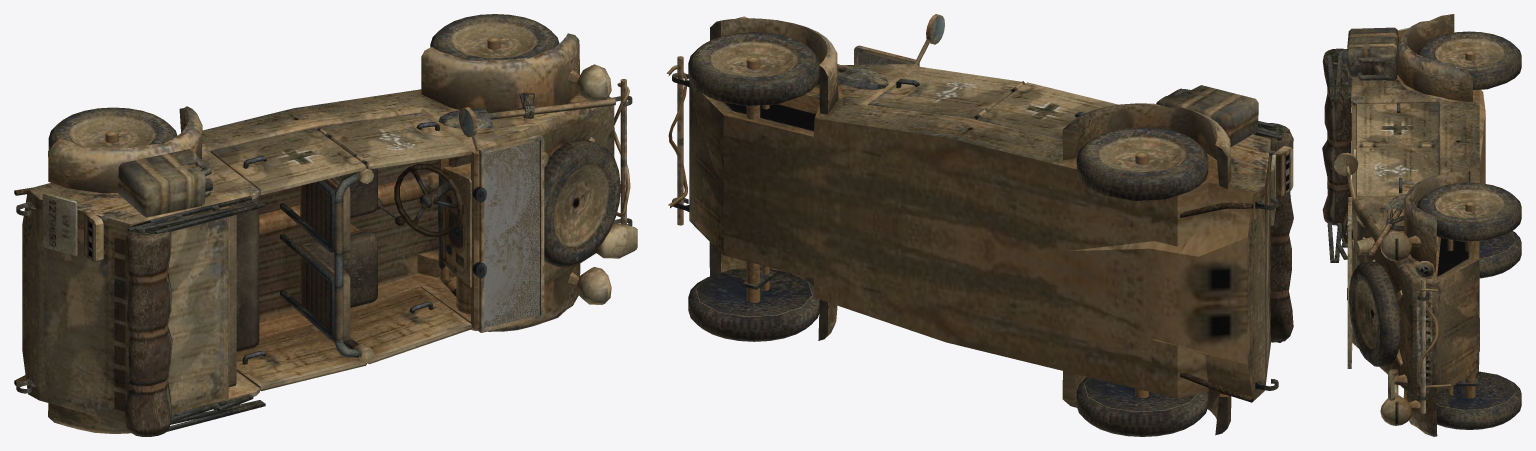
Rendered from vehicle_german_kubel_static.glb.
3 renders of one model, left to right at view 1: azimuth 30°, elevation 25°; view 2: azimuth 150°, elevation 25°; view 3: azimuth 270°, elevation 25°, orthographic. The views are drawn at different scales.
Size of the model in its own units: 153 by 68.92 by 53.76.
2 materials, 2 textured.
